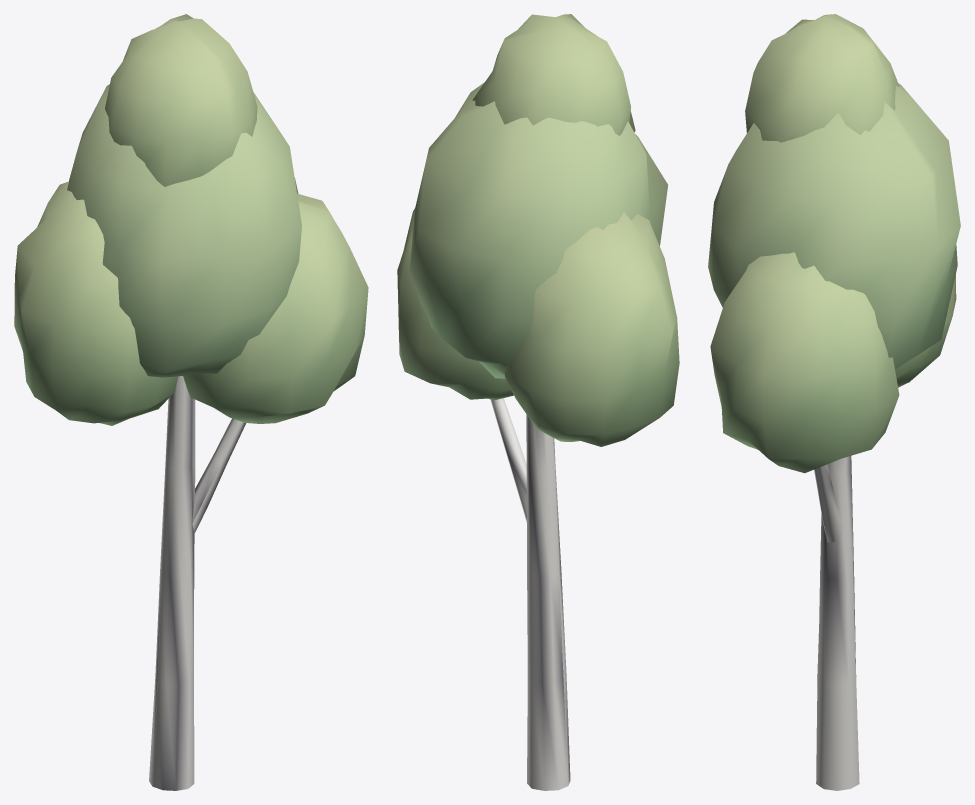
The model's file is birke.glb.
The picture shows the model from 3 angles, left to right: view 1: azimuth 30°, elevation 25°; view 2: azimuth 150°, elevation 25°; view 3: azimuth 270°, elevation 25°; orthographic projection.
Parts seen in each view (by area): view 1: birke2; view 2: birke2; view 3: birke2.
Boxes of the visible parts, left/top/right/bottom form: birke2: left=14, top=14, right=368, bottom=790; birke2: left=397, top=14, right=679, bottom=790; birke2: left=708, top=14, right=960, bottom=790.
Bounding box in the file's own units: 2.67 × 6.51 × 1.95.
